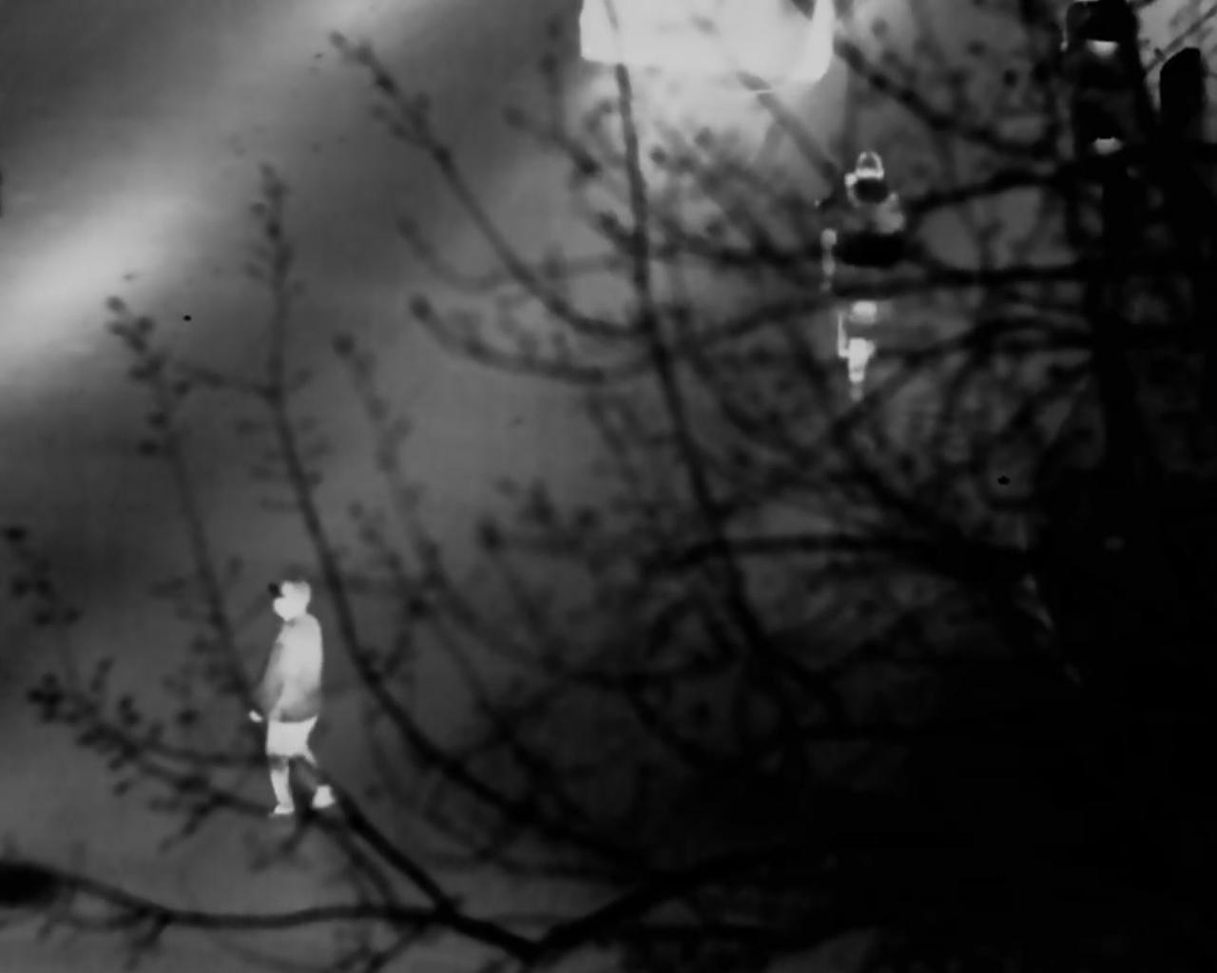person: (243, 567, 331, 813), (830, 153, 909, 408)
